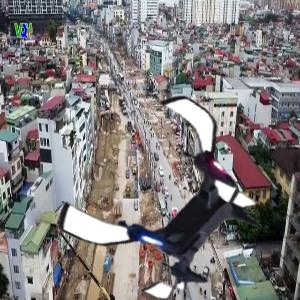drone: (69, 95, 275, 300)
